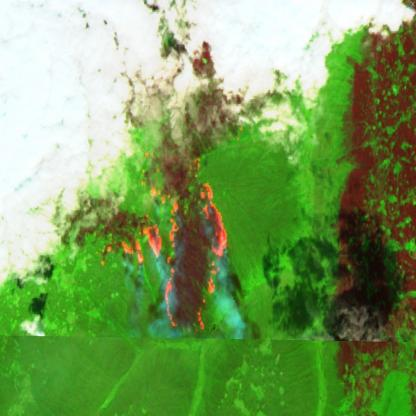fire: (100, 151, 230, 338)
